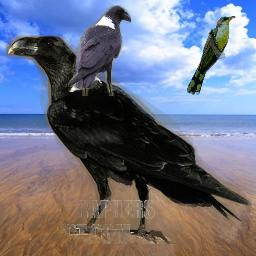Crow: (6, 35, 253, 244), (68, 5, 131, 96)
Cuckoo: (187, 16, 236, 95)
